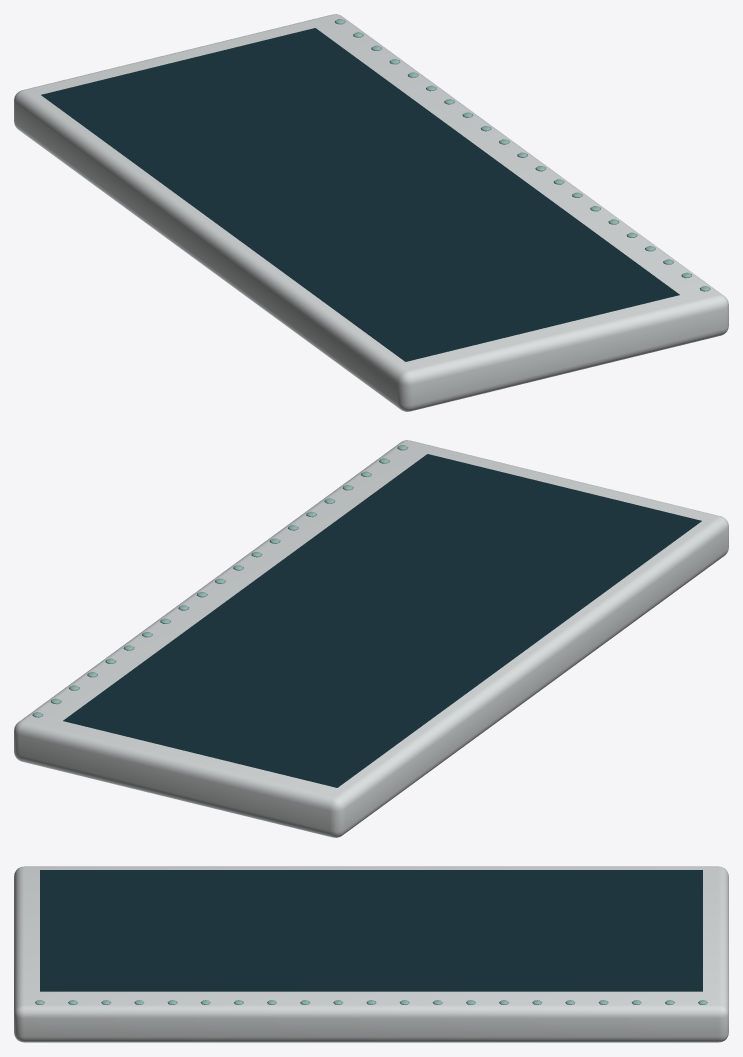
File: blister_end.glb
3 renders of one model, top to bottom at view 1: azimuth 30°, elevation 25°; view 2: azimuth 150°, elevation 25°; view 3: azimuth 270°, elevation 25°, orthographic. The views are drawn at different scales.
Visible parts, largest first — view 1: Label, EndFoil, Perforation; view 2: Label, EndFoil, Perforation; view 3: Label, EndFoil, Perforation.
Boxes of the visible parts, bbox=[...] form: Label: bbox=[41, 28, 679, 361]; EndFoil: bbox=[14, 14, 728, 411]; Perforation: bbox=[334, 19, 710, 291]; Label: bbox=[63, 454, 701, 787]; EndFoil: bbox=[14, 440, 728, 837]; Perforation: bbox=[32, 445, 408, 717]; Label: bbox=[40, 870, 702, 991]; EndFoil: bbox=[14, 866, 728, 1042]; Perforation: bbox=[35, 1000, 707, 1004].
Bounding box in the file's own units: 1.2 × 0.148 × 2.48.
